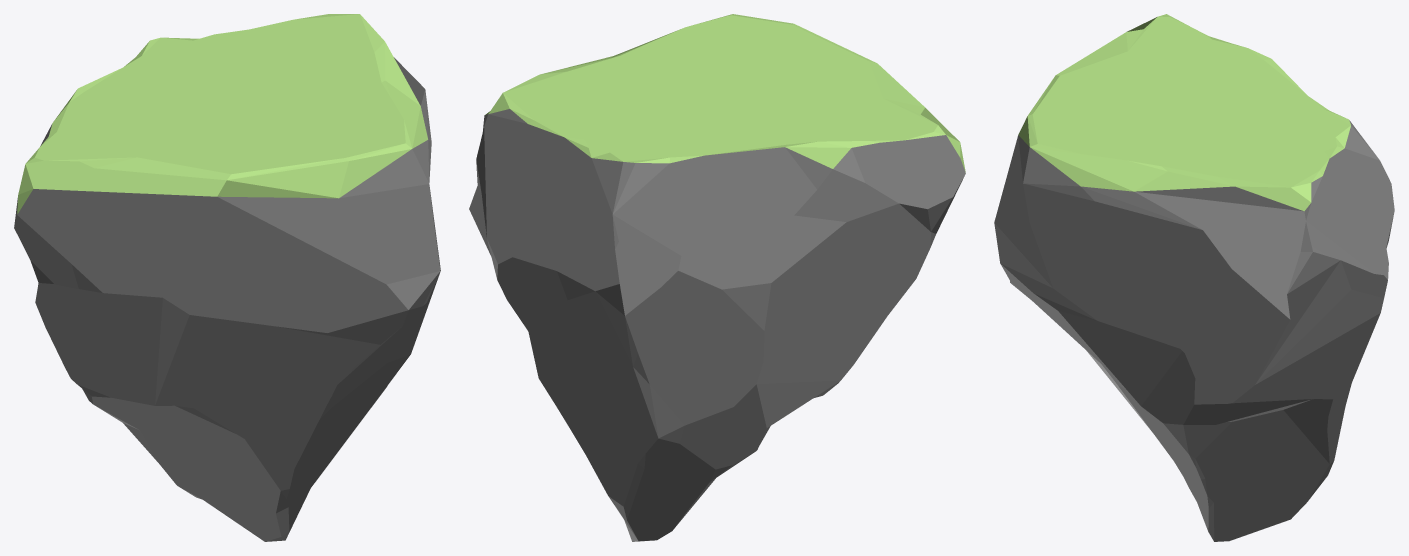
Rendered from floating_stone 1.fbx.
3 renders of one model, left to right at view 1: azimuth 30°, elevation 25°; view 2: azimuth 150°, elevation 25°; view 3: azimuth 270°, elevation 25°, orthographic. The views are drawn at different scales.
Parts seen in each view (by area): view 1: Cube.000; view 2: Cube.000; view 3: Cube.000.
Part boxes in pixels (<box>): Cube.000: <box>14,14,440,541</box>; Cube.000: <box>469,14,965,541</box>; Cube.000: <box>994,14,1394,541</box>.
Size of the model in its own units: 6236 by 6210 by 5437.
